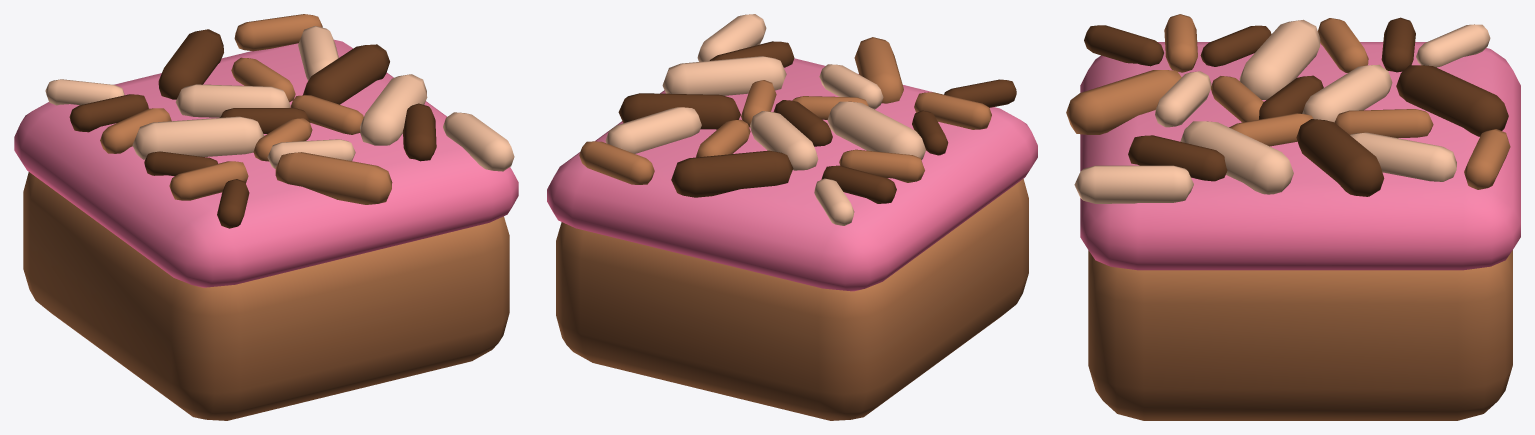
Rendered from candy_choco_26.fbx.
3 views of the same model, side by side, from view 1: azimuth 30°, elevation 25°; view 2: azimuth 150°, elevation 25°; view 3: azimuth 270°, elevation 25° (orthographic). The views are drawn at different scales.
Parts seen in each view (by area): view 1: c_c_26; view 2: c_c_26; view 3: c_c_26.
Part boxes in pixels (bbox=[...]): c_c_26: bbox=[14, 14, 518, 420]; c_c_26: bbox=[547, 14, 1037, 420]; c_c_26: bbox=[1066, 14, 1520, 420].
Bounding box in the file's own units: 115 × 76.94 × 119.
